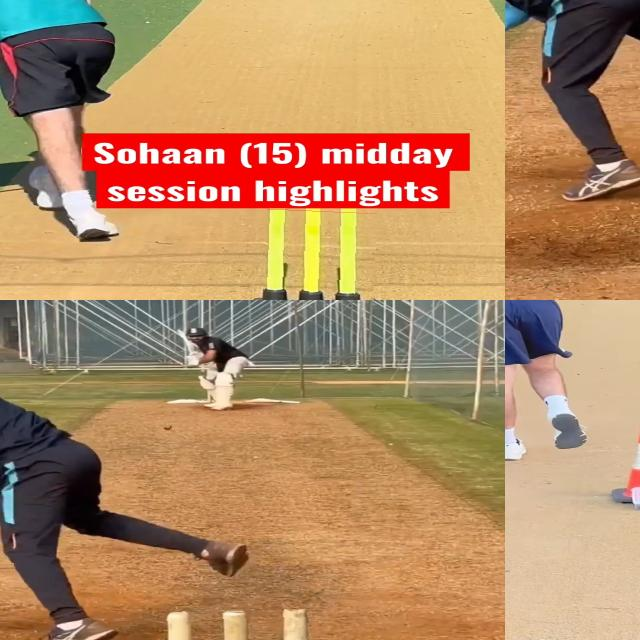Cricket ball: (162, 425, 172, 431)
Stumps: (254, 207, 377, 300)
